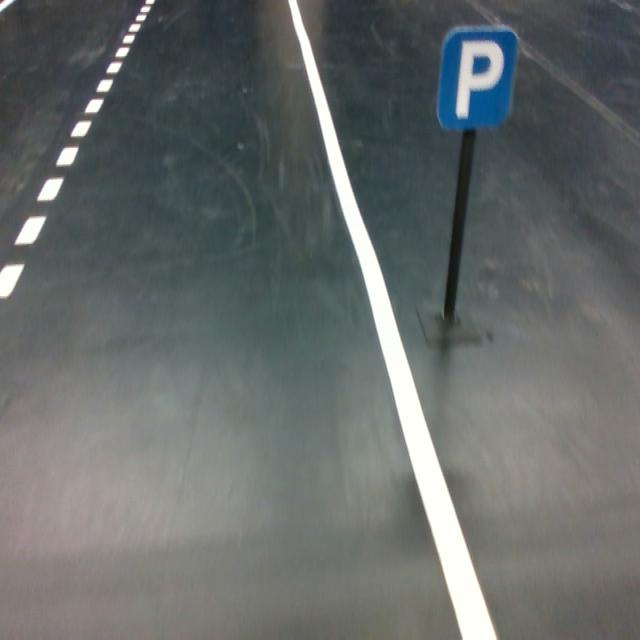parking-sign: (435, 25, 519, 133)
